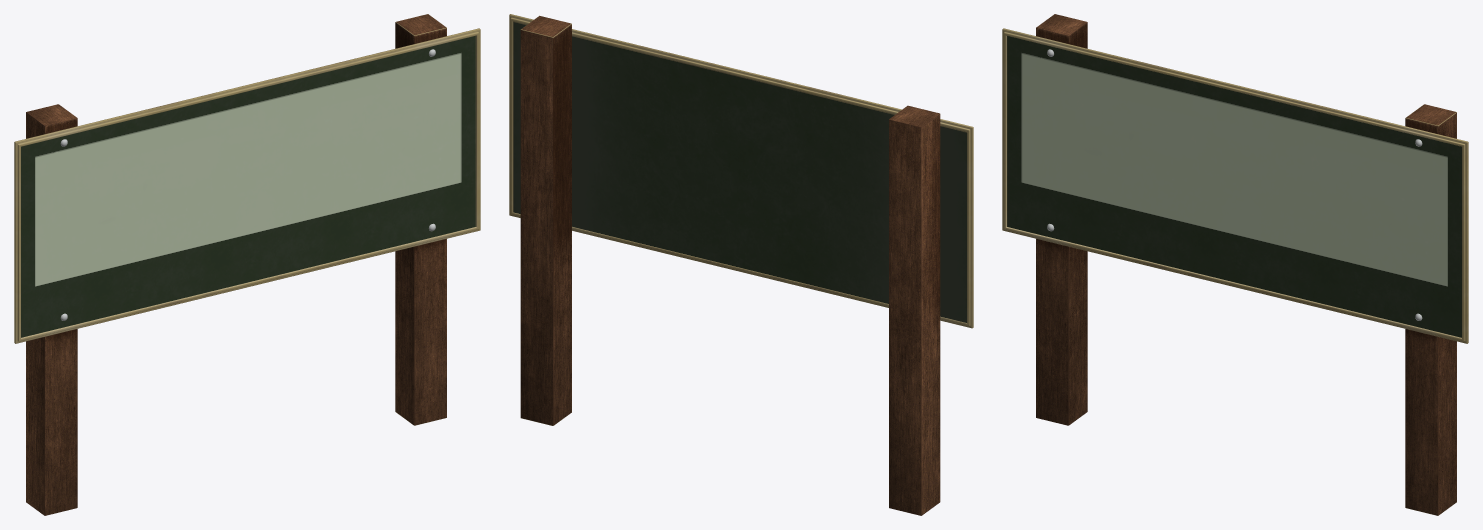
File: park_sign.fbx
3 views of the same model, side by side, from view 1: azimuth 30°, elevation 25°; view 2: azimuth 150°, elevation 25°; view 3: azimuth 330°, elevation 25° (orthographic).
Visible parts, largest first — view 1: park_sign_LOD0; view 2: park_sign_LOD0; view 3: park_sign_LOD0.
Part boxes in pixels (x1,y1,x2,y2): park_sign_LOD0: (14,14,480,515); park_sign_LOD0: (509,14,973,515); park_sign_LOD0: (1002,14,1468,515).
Size of what is drawn, in the model's own units: 200 by 160 by 16.91.
